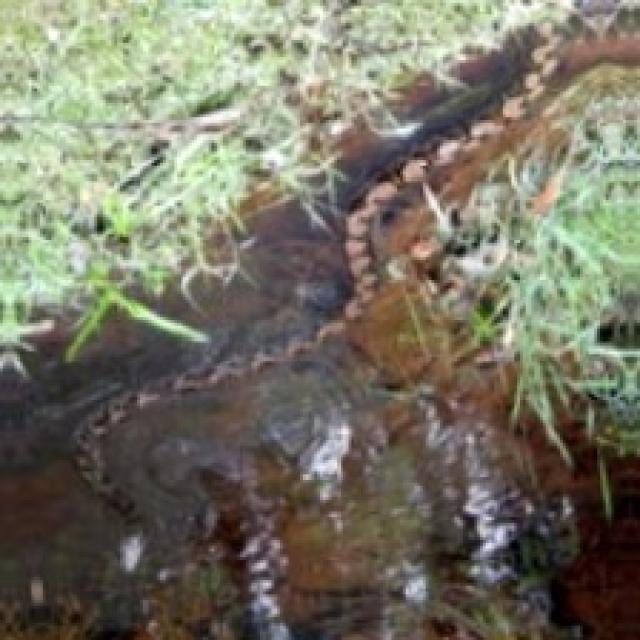reticulated python: (76, 24, 561, 514)
